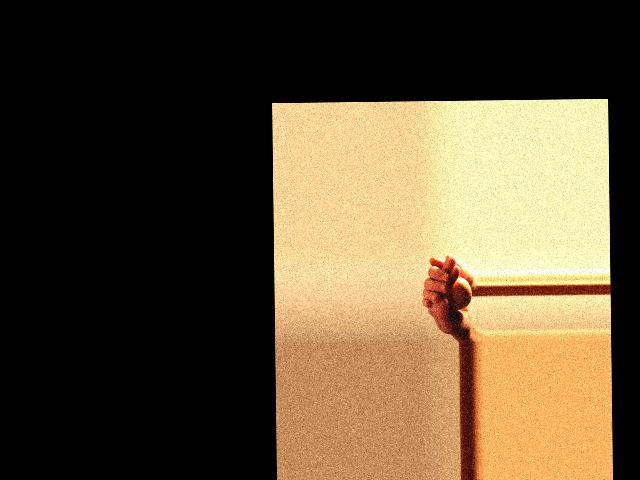egg: (449, 277, 471, 310)
